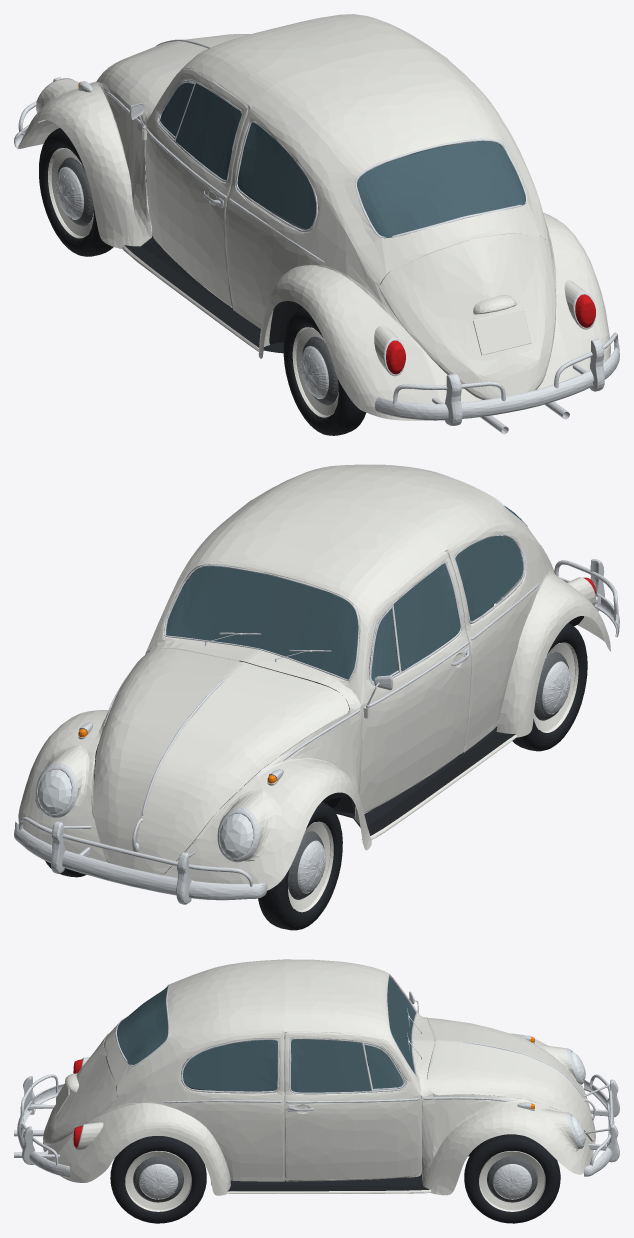
Rendered from fusca.glb.
3 renders of one model, top to bottom at view 1: azimuth 30°, elevation 25°; view 2: azimuth 150°, elevation 25°; view 3: azimuth 270°, elevation 25°, orthographic. The views are drawn at different scales.
Parts seen in each view (by area): view 1: web_fusca; view 2: web_fusca; view 3: web_fusca.
Boxes of the visible parts, x1,y1,x2,y2 form: web_fusca: (14,14,619,435); web_fusca: (14,464,619,930); web_fusca: (14,959,619,1223).
Size of the model in its own units: 1.54 by 1.52 by 4.1.
